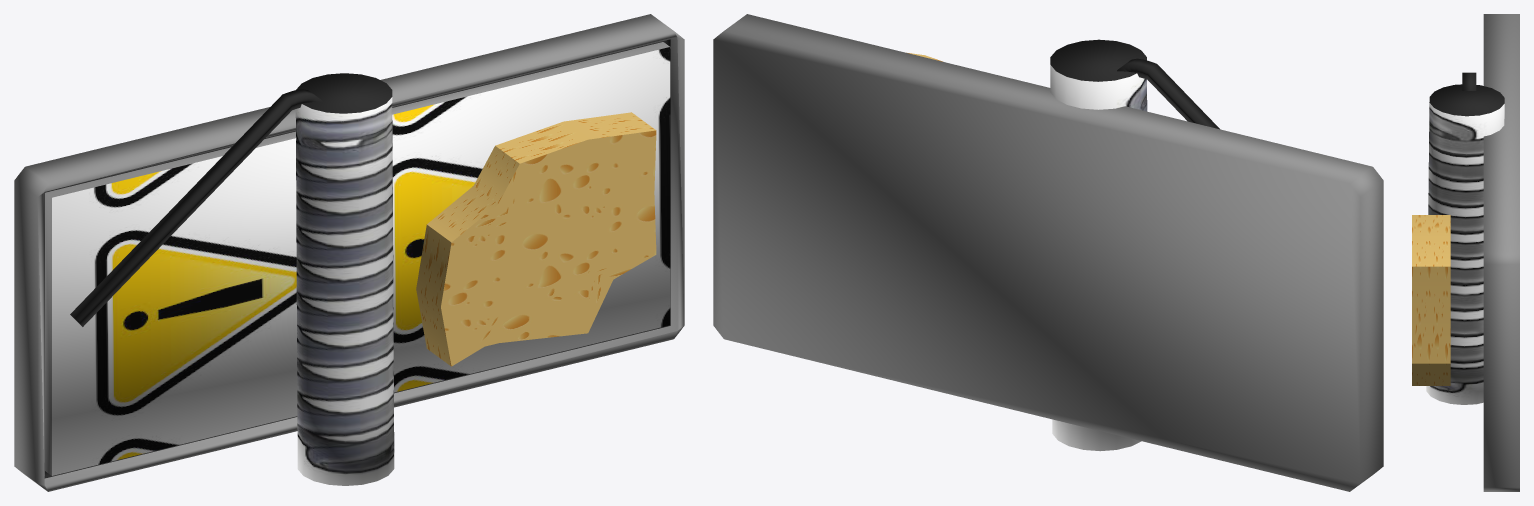
Rendered from MOUSE TRAP02.FBX.
3 renders of one model, left to right at view 1: azimuth 30°, elevation 25°; view 2: azimuth 150°, elevation 25°; view 3: azimuth 270°, elevation 25°, orthographic. The views are drawn at different scales.
Parts seen in each view (by area): view 1: Box001, Box002, Cylinder001, Line004; view 2: Box001, Cylinder001, Line004; view 3: Box001, Cylinder001, Box002, Line004.
Boxes of the visible parts, x1=… form: Box001: x1=14, y1=14, x2=684, y2=491; Box002: x1=416, y1=112, x2=656, y2=366; Cylinder001: x1=295, y1=73, x2=394, y2=485; Line004: x1=70, y1=89, x2=322, y2=326; Box001: x1=713, y1=14, x2=1383, y2=491; Cylinder001: x1=1050, y1=39, x2=1147, y2=451; Line004: x1=1117, y1=58, x2=1219, y2=129; Box001: x1=1483, y1=14, x2=1519, y2=491; Cylinder001: x1=1426, y1=84, x2=1504, y2=404; Box002: x1=1412, y1=215, x2=1450, y2=385; Line004: x1=1462, y1=72, x2=1476, y2=90.
Size of the model in its own units: 90.21 by 50.69 by 16.72.
10 materials, 3 textured.
